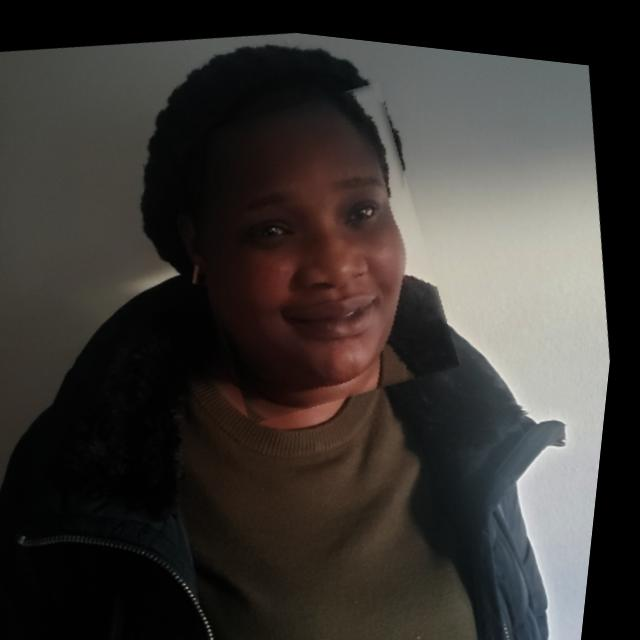happy: (156, 56, 480, 432)
